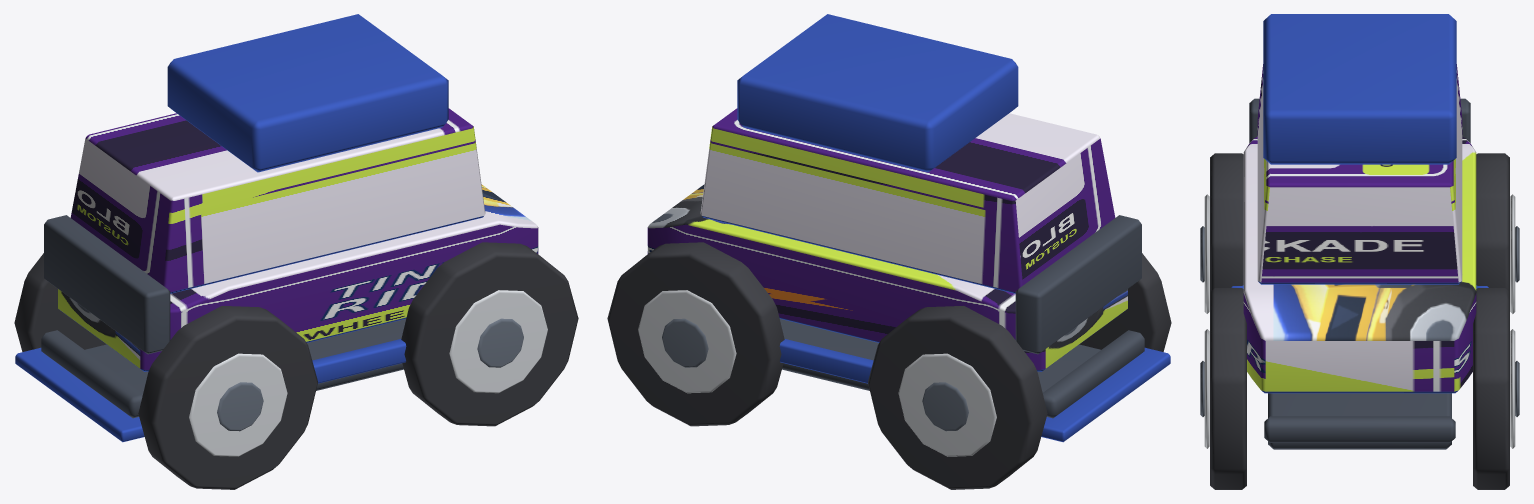
3 renders of one model, left to right at view 1: azimuth 30°, elevation 25°; view 2: azimuth 150°, elevation 25°; view 3: azimuth 270°, elevation 25°, orthographic. The views are drawn at different scales.
Visible parts, largest first — view 1: BW-02_cabin, armored roof canopy, BW-02_connected_shell, Tire, Tire.002, armored face guard, Rim, Rim.002, custom chin, underbody, Tire.001, front bumper (+3 smaller); view 2: BW-02_cabin, armored roof canopy, BW-02_connected_shell, Tire.001, Tire.003, armored face guard, Rim.001, Rim.003, custom chin, underbody, Tire, front bumper (+3 smaller); view 3: armored roof canopy, BW-02_connected_shell, BW-02_cabin, Tire.002, Tire.003, underbody, rear bumper, Tire, Tire.001, armored face guard, Rim.002, Rim.003 (+2 smaller).
Boxes of the visible parts, <box> form: BW-02_cabin: <box>70,108,485,293</box>; armored roof canopy: <box>167,14,448,172</box>; BW-02_connected_shell: <box>58,184,538,371</box>; Tire: <box>138,306,317,489</box>; Tire.002: <box>401,242,578,426</box>; armored face guard: <box>44,215,170,354</box>; Rim: <box>189,353,287,456</box>; Rim.002: <box>449,290,547,393</box>; custom chin: <box>15,347,144,442</box>; underbody: <box>85,319,405,392</box>; Tire.001: <box>14,253,106,351</box>; front bumper: <box>41,330,143,418</box>; BW-02_cabin: <box>700,108,1115,293</box>; armored roof canopy: <box>737,14,1018,172</box>; BW-02_connected_shell: <box>647,184,1127,371</box>; Tire.001: <box>868,306,1047,489</box>; Tire.003: <box>607,242,784,426</box>; armored face guard: <box>1015,215,1141,354</box>; Rim.001: <box>898,353,996,456</box>; Rim.003: <box>638,290,736,393</box>; custom chin: <box>1041,347,1170,442</box>; underbody: <box>780,319,1100,392</box>; Tire: <box>1079,253,1171,351</box>; front bumper: <box>1042,330,1144,418</box>; armored roof canopy: <box>1263,14,1456,164</box>; BW-02_connected_shell: <box>1243,136,1476,393</box>; BW-02_cabin: <box>1257,64,1462,284</box>; Tire.002: <box>1210,288,1246,489</box>; Tire.003: <box>1473,288,1509,489</box>; underbody: <box>1268,393,1451,449</box>; rear bumper: <box>1264,416,1455,442</box>; Tire: <box>1210,153,1243,291</box>; Tire.001: <box>1476,153,1509,291</box>; armored face guard: <box>1249,98,1470,142</box>; Rim.002: <box>1204,329,1209,448</box>; Rim.003: <box>1510,329,1515,448</box>.
Size of the model in its own units: 381 by 279 by 225.
